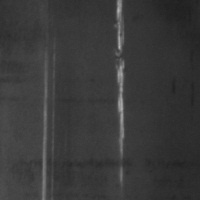scratches: (114, 2, 131, 187), (40, 45, 58, 199)
